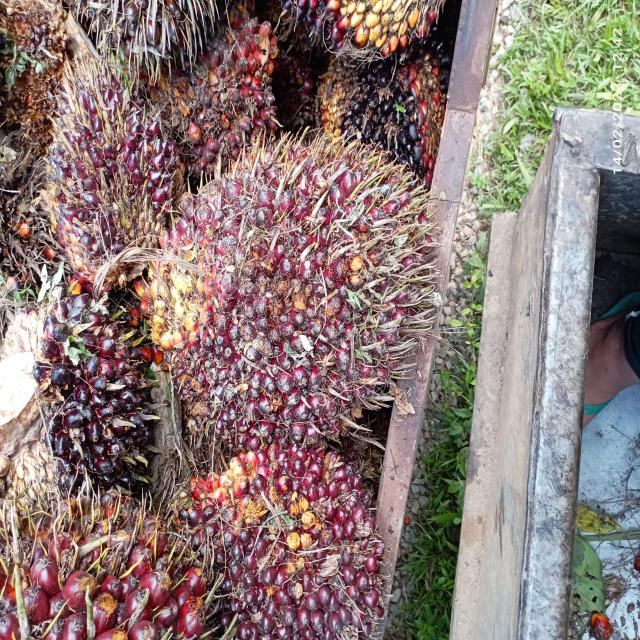fraksi 00: (6, 234, 170, 511), (318, 27, 445, 172)
fraksi 1: (35, 36, 174, 292), (151, 14, 281, 170)
fraksi 3: (134, 88, 453, 473), (190, 383, 386, 640)
